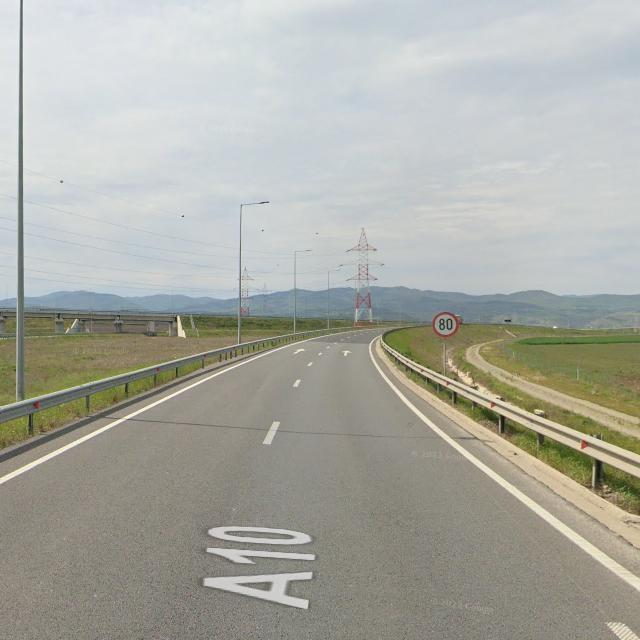forb_speed_over_80: (431, 312, 459, 339)
